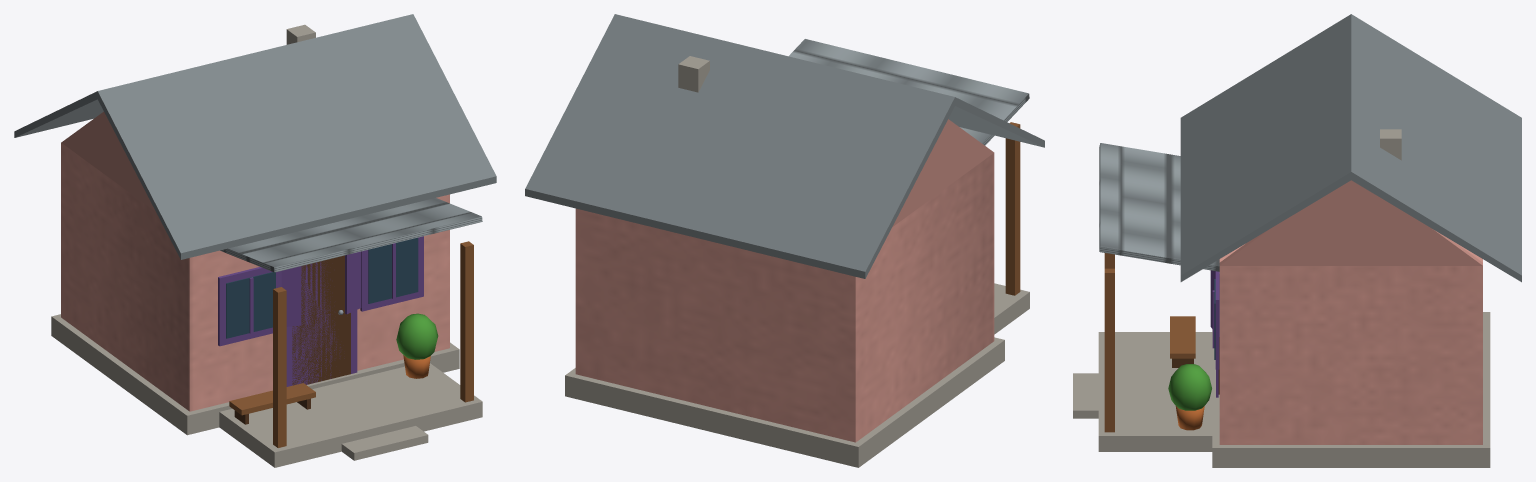
Rendered from prop_rumah_merah.glb.
The picture shows the model from 3 angles, left to right: view 1: azimuth 30°, elevation 25°; view 2: azimuth 150°, elevation 25°; view 3: azimuth 270°, elevation 25°; orthographic projection. The views are drawn at different scales.
Parts seen in each view (by area): view 1: rumah_merah; view 2: rumah_merah; view 3: rumah_merah.
Boxes of the visible parts, <box> form: rumah_merah: <box>14,14,496,467</box>; rumah_merah: <box>525,14,1044,467</box>; rumah_merah: <box>1073,14,1521,467</box>.
Bounding box in the file's own units: 5.1 × 4.63 × 6.13.
Materials: 10 (2 with a texture image).
